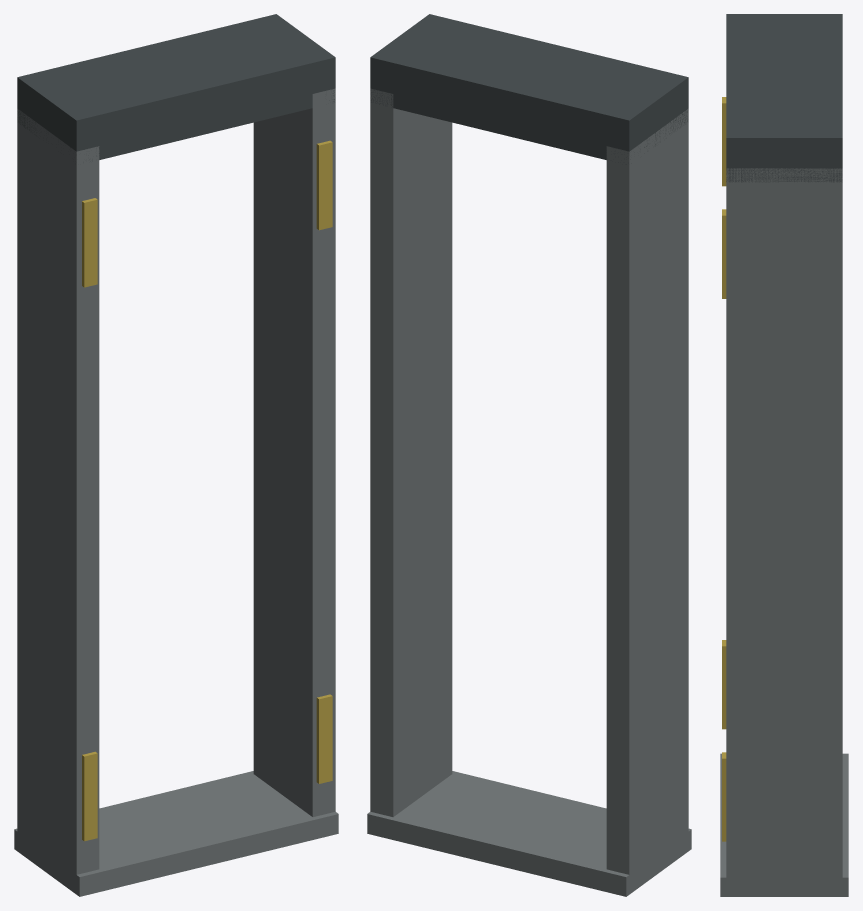
Rendered from CMU3DHybrisaPersonalAirlockOpen.glb.
3 views of the same model, side by side, from view 1: azimuth 30°, elevation 25°; view 2: azimuth 150°, elevation 25°; view 3: azimuth 270°, elevation 25° (orthographic).
Parts seen in each view (by area): view 1: left door jamb, right door jamb, door lintel, threshold, jamb warning stripe (×4); view 2: left door jamb, right door jamb, door lintel, threshold; view 3: right door jamb, door lintel, jamb warning stripe (×4), threshold.
Boxes of the visible parts, <box> form: left door jamb: <box>17,109,99,894</box>; right door jamb: <box>253,88,335,816</box>; door lintel: <box>17,14,335,162</box>; threshold: <box>14,771,338,896</box>; jamb warning stripe (×4): <box>82,140,332,841</box>; left door jamb: <box>606,108,688,894</box>; right door jamb: <box>370,88,452,816</box>; door lintel: <box>370,14,688,164</box>; threshold: <box>367,771,691,896</box>; right door jamb: <box>726,168,842,896</box>; door lintel: <box>726,14,842,182</box>; jamb warning stripe (×4): <box>722,97,726,841</box>; threshold: <box>720,753,848,896</box>.
Size of the model in its own units: 0.96 by 2.74 by 0.42.
